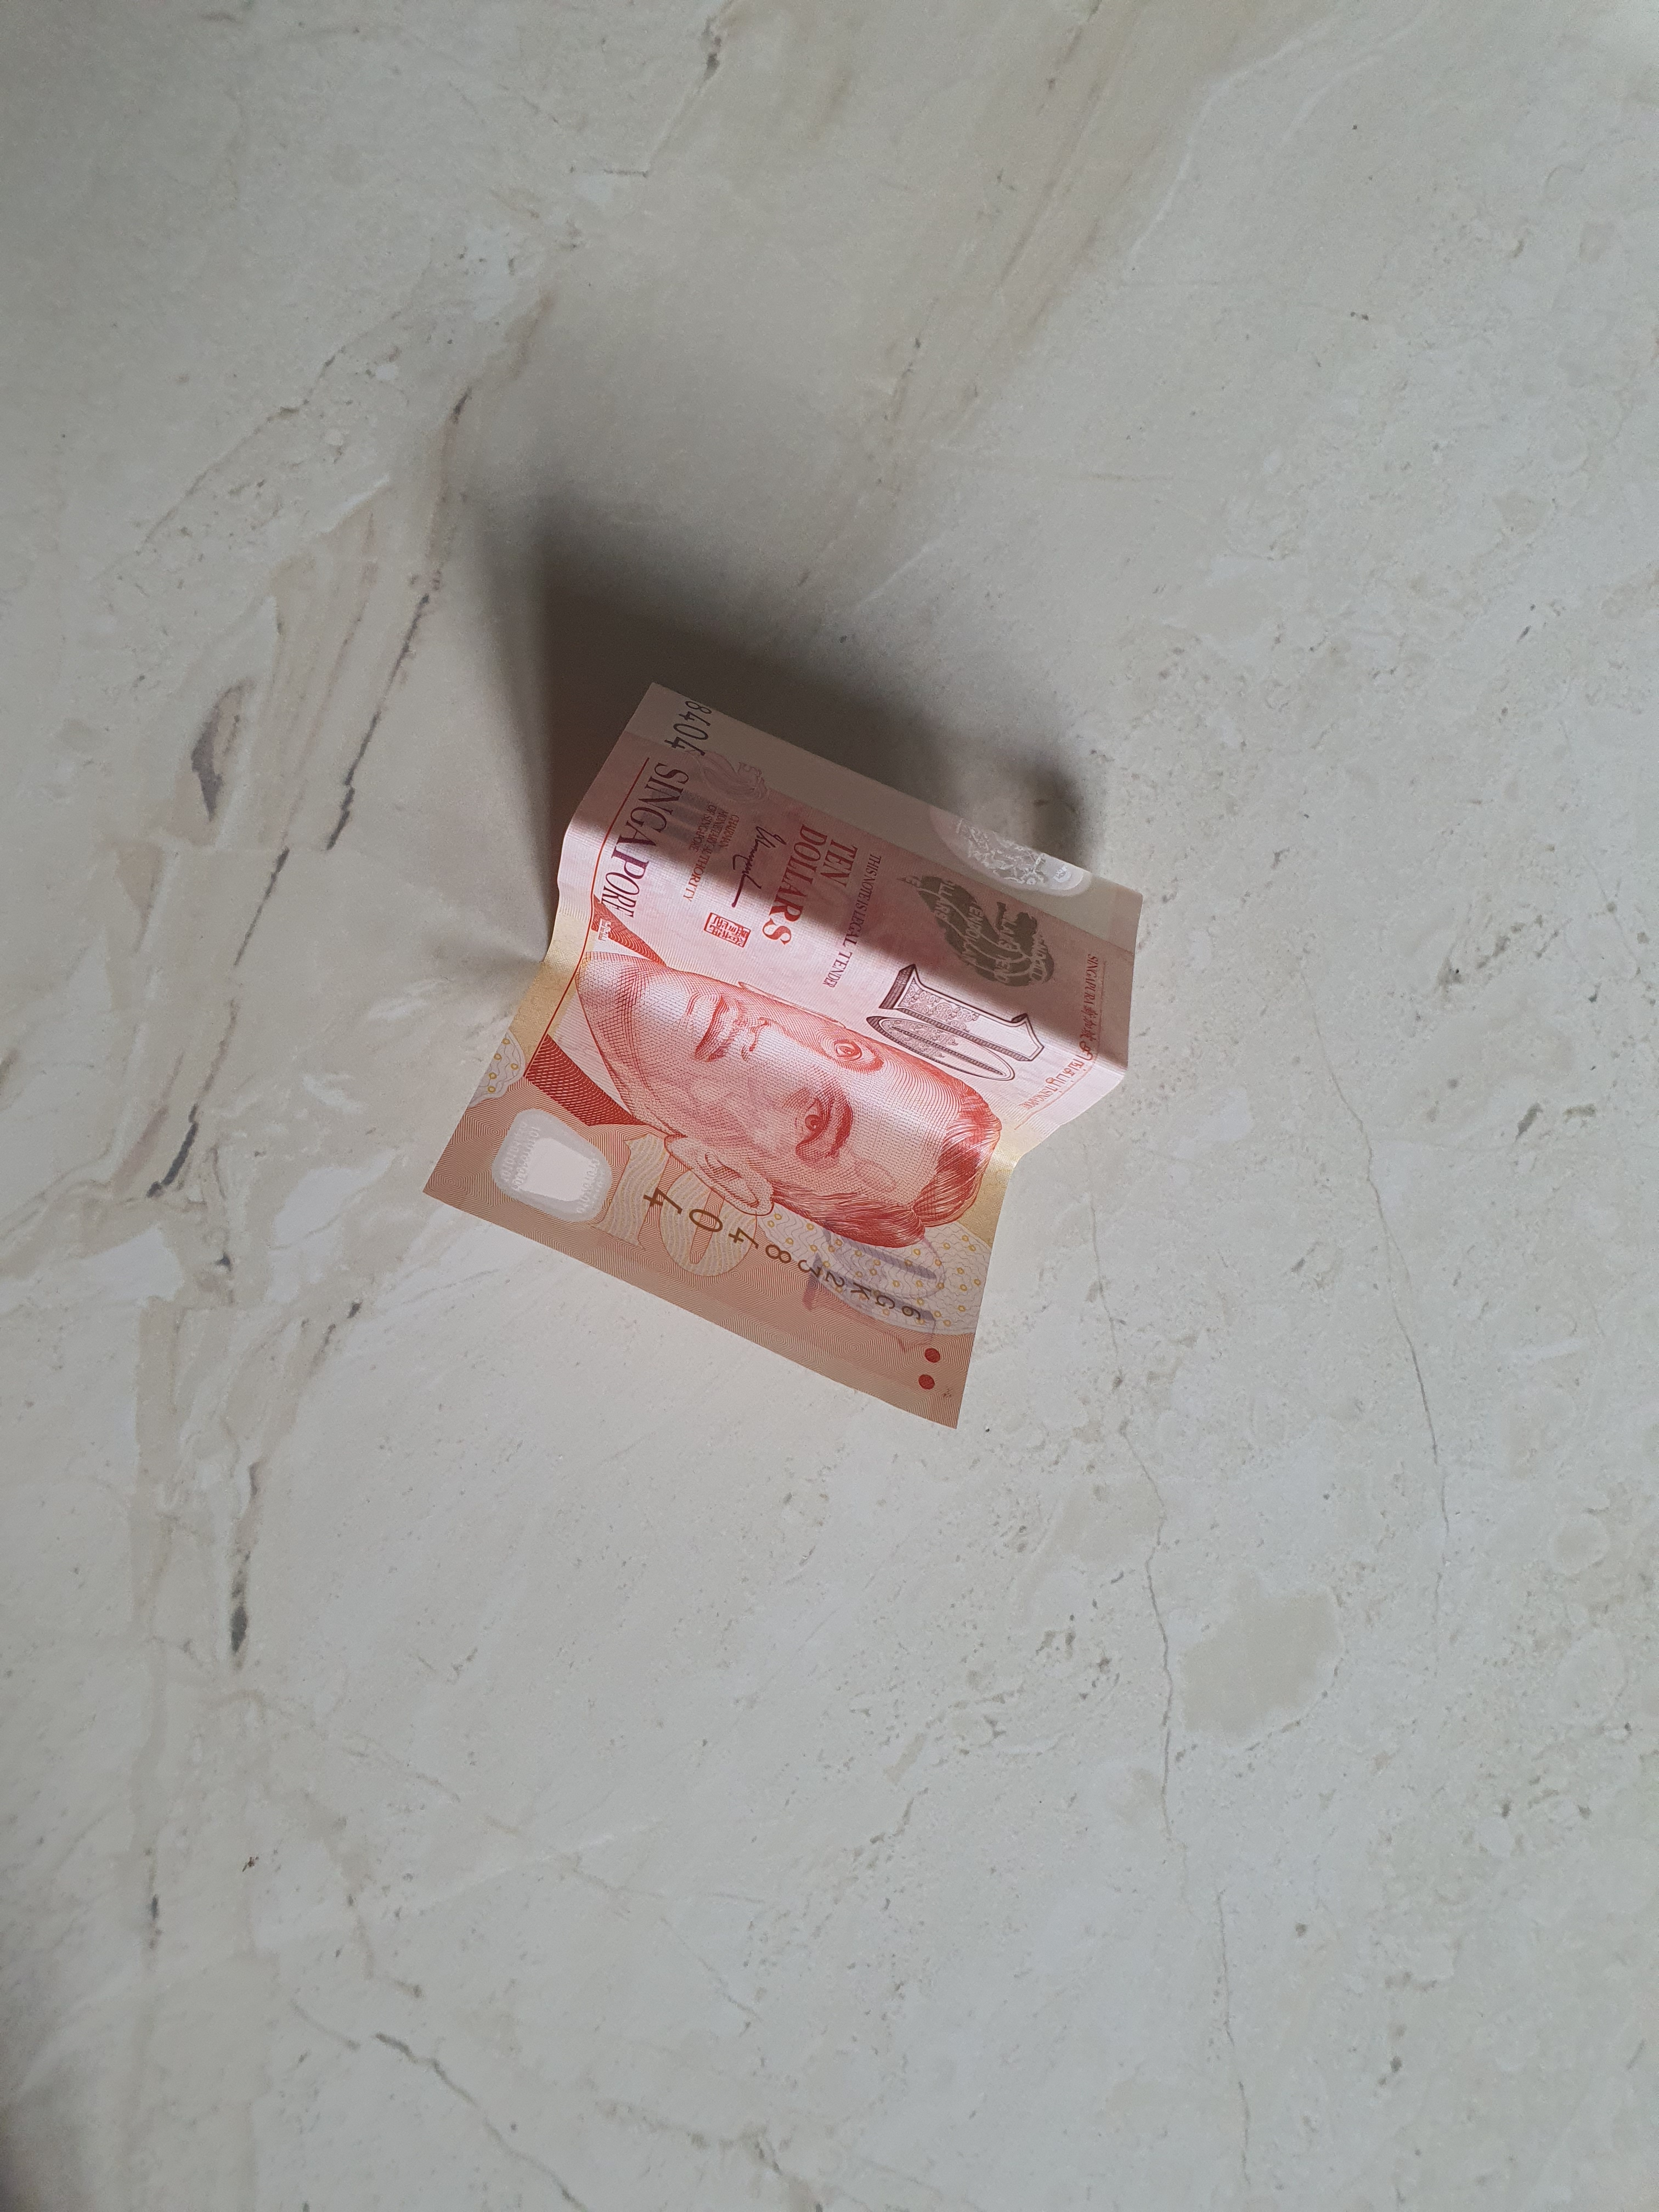$10: (420, 679, 1140, 1432)
